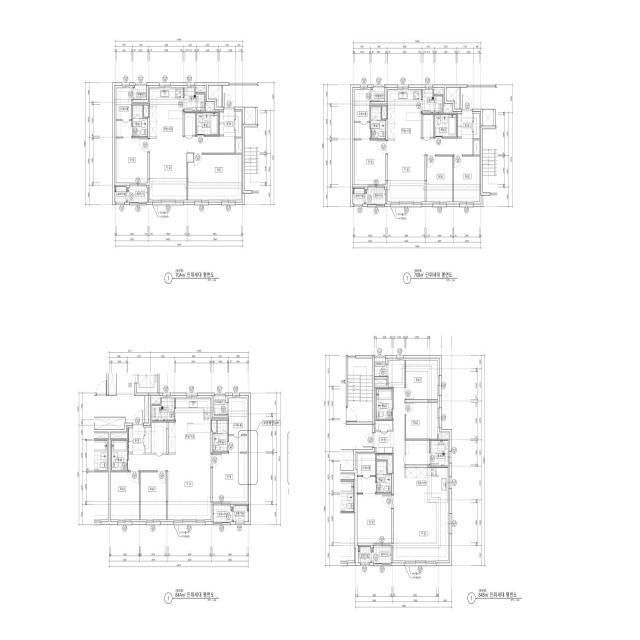space_balconi: (152, 398, 174, 421), (422, 90, 443, 113), (184, 88, 204, 111), (430, 441, 448, 466), (213, 505, 233, 522), (365, 188, 386, 204), (372, 546, 391, 563), (127, 186, 147, 202)
space_bedroom: (188, 154, 241, 200), (357, 494, 391, 543), (213, 453, 247, 502), (354, 140, 386, 185), (116, 138, 148, 183), (111, 472, 139, 520), (406, 360, 438, 400), (140, 472, 166, 520), (427, 156, 453, 202), (406, 403, 438, 439), (454, 156, 479, 202)
space_dressroom: (229, 398, 247, 452), (116, 88, 132, 137), (354, 90, 370, 139), (357, 454, 376, 493)
space_front: (219, 109, 241, 137), (457, 110, 473, 138), (128, 425, 144, 453), (374, 432, 393, 454)
space_kitchen: (168, 398, 211, 453), (388, 90, 421, 139), (150, 88, 183, 137), (405, 468, 448, 503)
space_living_room: (389, 360, 448, 561), (128, 453, 211, 520), (388, 138, 473, 202), (150, 137, 235, 200)
space_other: (406, 441, 429, 465), (152, 422, 166, 453), (208, 86, 222, 107), (446, 88, 460, 109), (377, 455, 392, 473), (214, 396, 227, 415), (185, 113, 196, 135), (423, 115, 434, 137), (375, 358, 387, 376), (371, 87, 385, 101), (483, 109, 493, 126), (133, 86, 146, 99), (245, 108, 255, 124), (376, 420, 392, 430), (145, 428, 151, 453), (474, 114, 479, 139), (145, 396, 149, 423), (111, 433, 127, 439), (236, 138, 242, 153), (474, 140, 479, 155), (375, 379, 387, 385), (205, 103, 214, 111), (443, 105, 452, 113), (382, 107, 387, 119), (212, 420, 217, 432), (434, 89, 443, 95), (152, 398, 160, 404), (144, 105, 148, 117), (196, 88, 205, 93), (439, 434, 448, 439)
space_outdoor_room: (234, 506, 249, 522), (358, 547, 371, 563), (353, 188, 364, 204), (115, 186, 126, 202)
space_staircase: (348, 358, 372, 422)
space_toilet: (213, 420, 228, 452), (371, 107, 386, 139), (133, 105, 148, 137), (376, 389, 392, 419), (112, 440, 127, 471), (197, 113, 218, 135), (435, 115, 456, 137), (377, 461, 391, 493)
